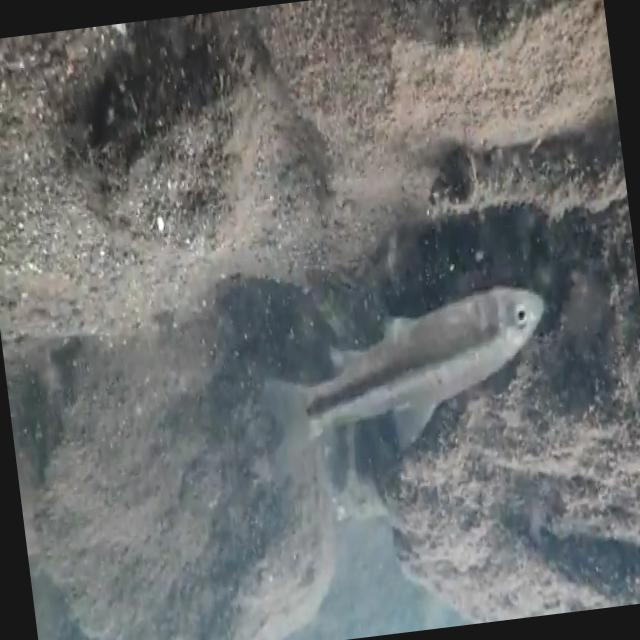Cakil Baligi: (245, 270, 562, 479)
